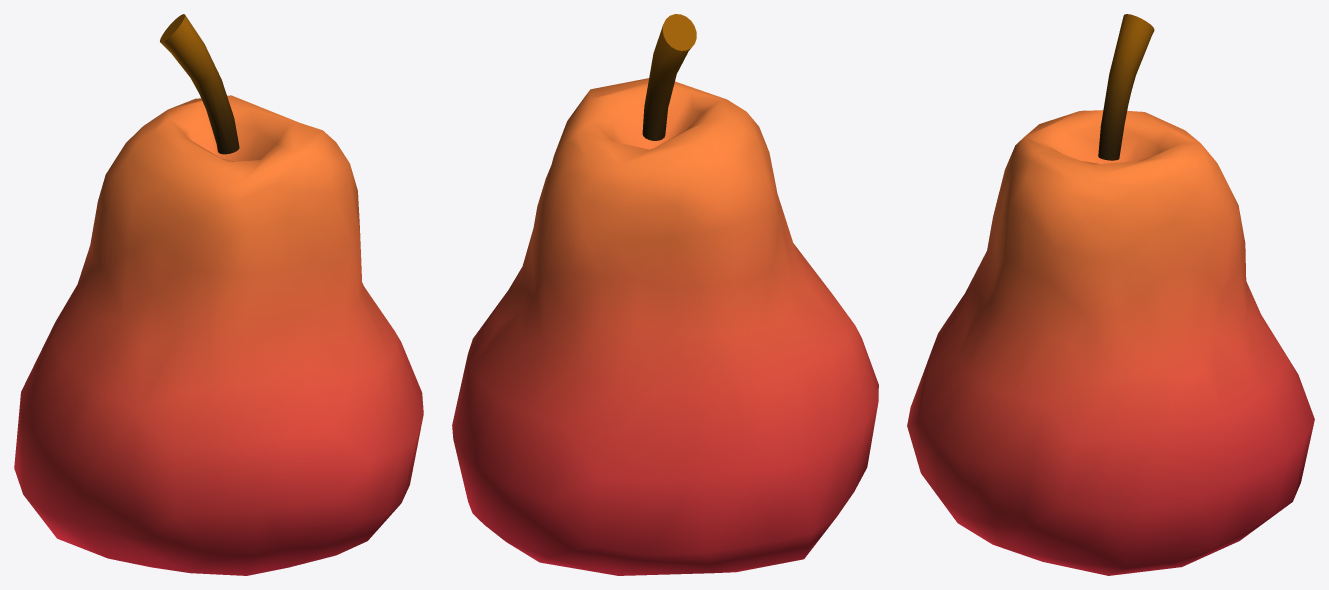
The model's file is fruit02.fbx.
The picture shows the model from 3 angles, left to right: view 1: azimuth 30°, elevation 25°; view 2: azimuth 150°, elevation 25°; view 3: azimuth 270°, elevation 25°; orthographic projection. The views are drawn at different scales.
Visible parts, largest first — view 1: fruit 02; view 2: fruit 02; view 3: fruit 02.
Boxes of the visible parts, bbox=[...] form: fruit 02: bbox=[14, 14, 423, 575]; fruit 02: bbox=[452, 14, 878, 575]; fruit 02: bbox=[907, 14, 1314, 575].
Size of the model in its own units: 185 by 254 by 190.
